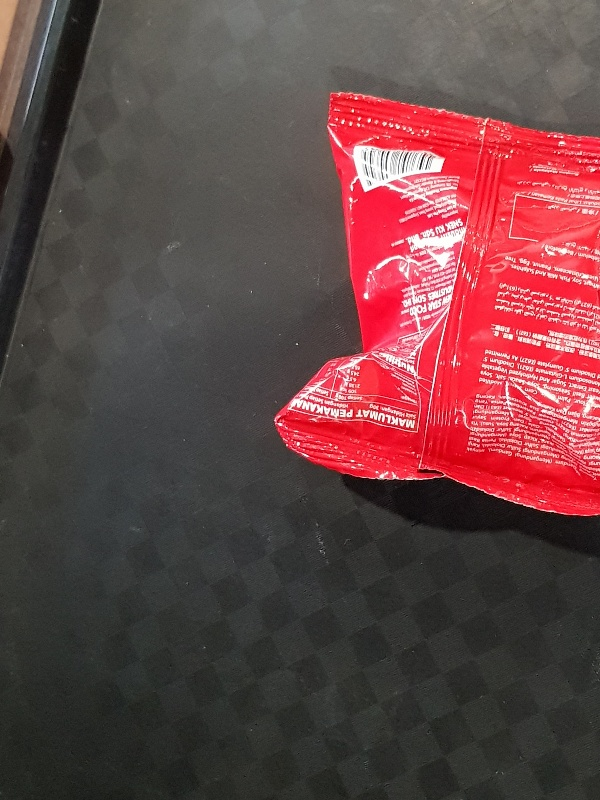ShoyueMi Spicy Flavoured Snacks: (274, 91, 600, 518)
